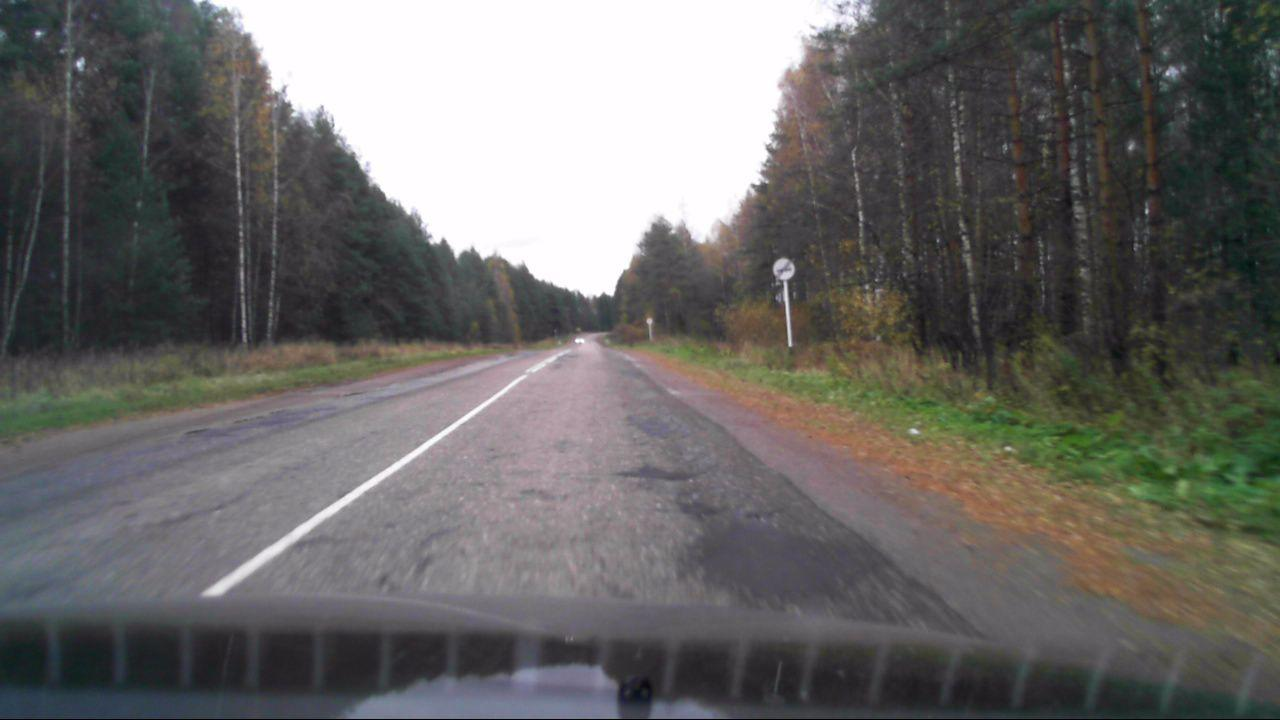3_21: (772, 256, 795, 279)
